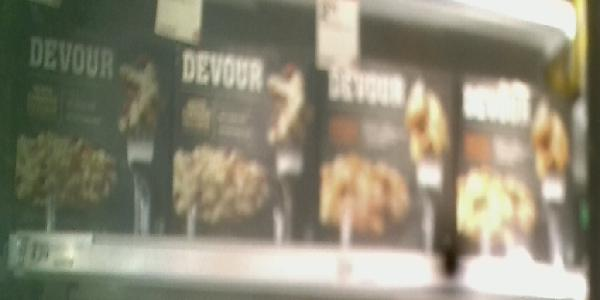pizza1: (16, 22, 165, 233), (170, 42, 312, 245), (318, 65, 451, 256), (457, 70, 581, 269)
